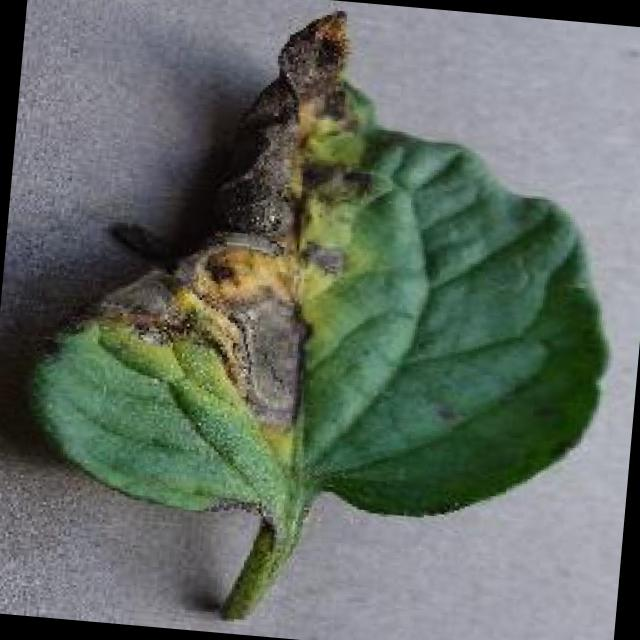Tomato_Early_Blight: (39, 0, 398, 450)
